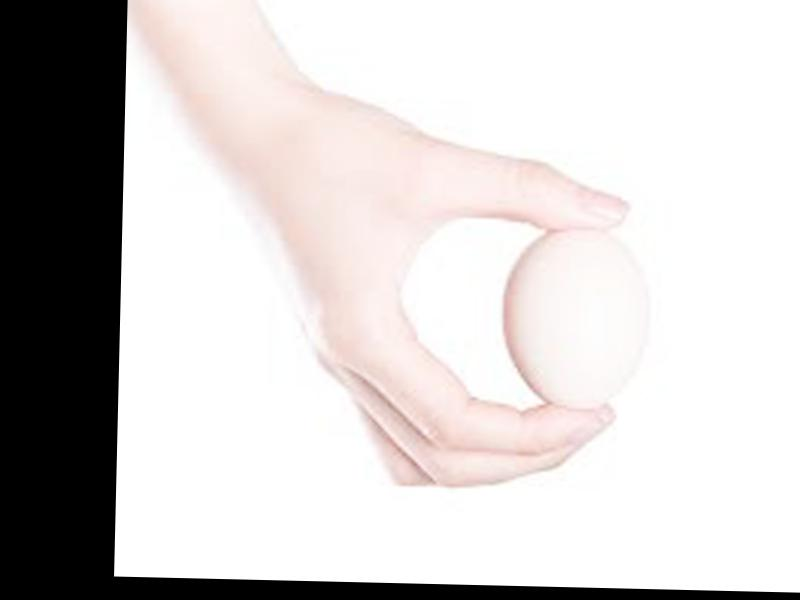Eggs: (500, 224, 652, 412)
